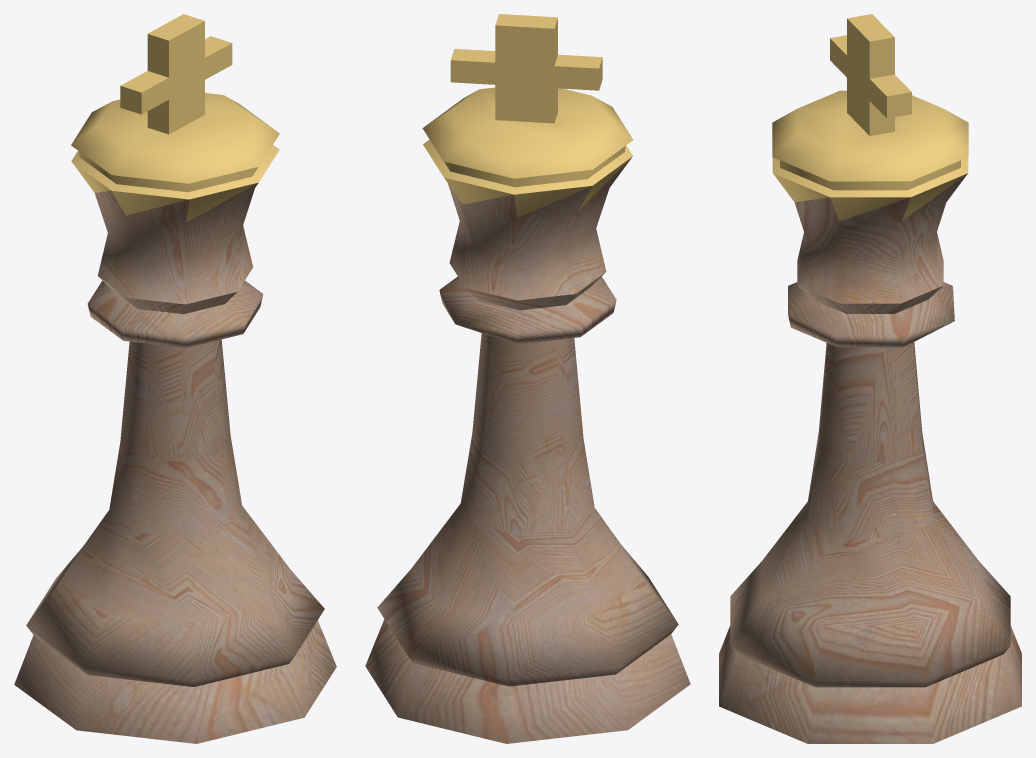
The model's file is gercek4_k_w.glb.
3 renders of one model, left to right at view 1: azimuth 30°, elevation 25°; view 2: azimuth 150°, elevation 25°; view 3: azimuth 270°, elevation 25°, orthographic.
Parts seen in each view (by area): view 1: k; view 2: k; view 3: k.
Part boxes in pixels (x1,y1,x2,y2): k: (14, 14, 336, 743); k: (365, 14, 690, 743); k: (719, 14, 1021, 743).
Bounding box in the file's own units: 0.3785 × 0.9 × 0.3785.
Materials: 2 (1 with a texture image).
